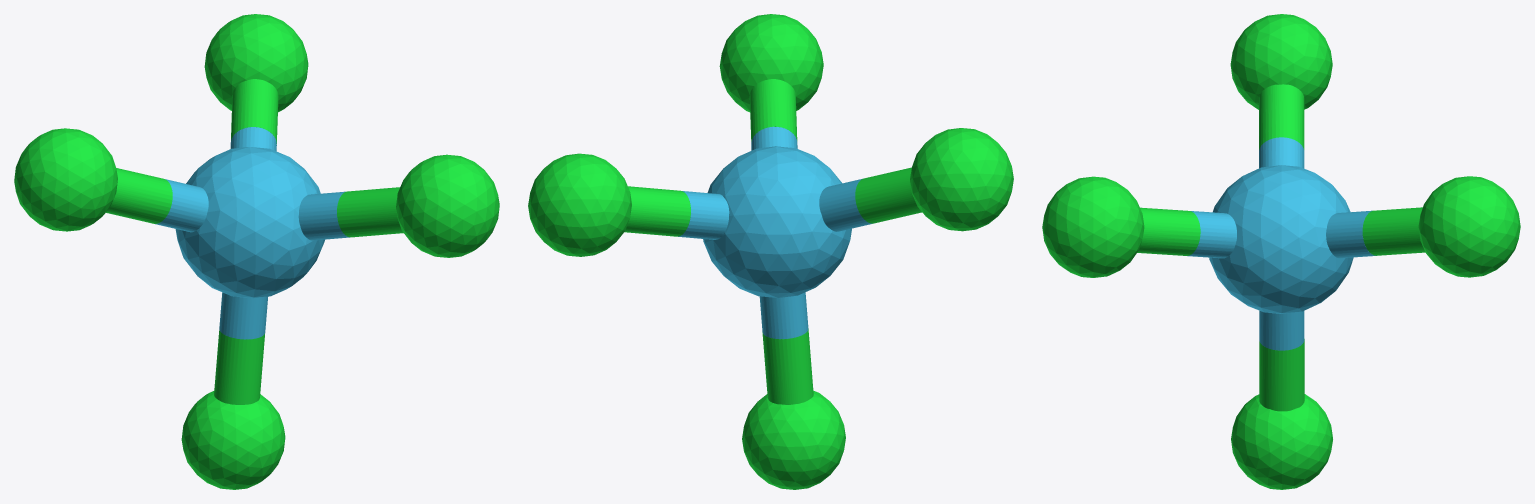
File: XeF4.gltf
3 views of the same model, side by side, from view 1: azimuth 30°, elevation 25°; view 2: azimuth 150°, elevation 25°; view 3: azimuth 270°, elevation 25° (orthographic).
Parts seen in each view (by area): view 1: Shape_IndexedFaceSet, Shape_IndexedFaceSet.001, Shape_IndexedFaceSet.004, Shape_IndexedFaceSet.002, Shape_IndexedFaceSet.003, Shape_IndexedFaceSet.012, Shape_IndexedFaceSet.005, Shape_IndexedFaceSet.016, Shape_IndexedFaceSet.009, Shape_IndexedFaceSet.014, Shape_IndexedFaceSet.007, Shape_IndexedFaceSet.015 (+1 smaller); view 2: Shape_IndexedFaceSet, Shape_IndexedFaceSet.003, Shape_IndexedFaceSet.001, Shape_IndexedFaceSet.002, Shape_IndexedFaceSet.004, Shape_IndexedFaceSet.012, Shape_IndexedFaceSet.009, Shape_IndexedFaceSet.016, Shape_IndexedFaceSet.005, Shape_IndexedFaceSet.014, Shape_IndexedFaceSet.011, Shape_IndexedFaceSet.015 (+1 smaller); view 3: Shape_IndexedFaceSet, Shape_IndexedFaceSet.004, Shape_IndexedFaceSet.003, Shape_IndexedFaceSet.002, Shape_IndexedFaceSet.001, Shape_IndexedFaceSet.012, Shape_IndexedFaceSet.009, Shape_IndexedFaceSet.005, Shape_IndexedFaceSet.016, Shape_IndexedFaceSet.007, Shape_IndexedFaceSet.011, Shape_IndexedFaceSet.014 (+1 smaller).
Part boxes in pixels (x1,y1,x2,y2): Shape_IndexedFaceSet: (175, 147, 324, 298); Shape_IndexedFaceSet.001: (14, 128, 117, 231); Shape_IndexedFaceSet.004: (396, 154, 499, 257); Shape_IndexedFaceSet.002: (181, 391, 285, 489); Shape_IndexedFaceSet.003: (204, 14, 308, 112); Shape_IndexedFaceSet.012: (214, 330, 264, 404); Shape_IndexedFaceSet.005: (337, 187, 403, 237); Shape_IndexedFaceSet.016: (106, 168, 172, 223); Shape_IndexedFaceSet.009: (231, 79, 278, 143); Shape_IndexedFaceSet.014: (219, 292, 267, 339); Shape_IndexedFaceSet.007: (298, 191, 349, 240); Shape_IndexedFaceSet.015: (155, 179, 208, 232); Shape_IndexedFaceSet: (703, 146, 851, 297); Shape_IndexedFaceSet.003: (528, 153, 631, 256); Shape_IndexedFaceSet.001: (910, 128, 1013, 231); Shape_IndexedFaceSet.002: (742, 390, 845, 489); Shape_IndexedFaceSet.004: (719, 14, 823, 112); Shape_IndexedFaceSet.012: (762, 328, 813, 404); Shape_IndexedFaceSet.009: (624, 186, 690, 236); Shape_IndexedFaceSet.016: (855, 167, 921, 223); Shape_IndexedFaceSet.005: (749, 79, 797, 141); Shape_IndexedFaceSet.014: (759, 292, 808, 339); Shape_IndexedFaceSet.011: (678, 191, 729, 239); Shape_IndexedFaceSet.015: (819, 178, 872, 231); Shape_IndexedFaceSet: (1209, 165, 1353, 313); Shape_IndexedFaceSet.004: (1042, 176, 1144, 277); Shape_IndexedFaceSet.003: (1418, 176, 1520, 277); Shape_IndexedFaceSet.002: (1231, 394, 1332, 489); Shape_IndexedFaceSet.001: (1230, 14, 1332, 109); Shape_IndexedFaceSet.012: (1259, 339, 1304, 411); Shape_IndexedFaceSet.009: (1362, 207, 1425, 255); Shape_IndexedFaceSet.005: (1137, 207, 1200, 255); Shape_IndexedFaceSet.016: (1259, 84, 1304, 149); Shape_IndexedFaceSet.007: (1187, 211, 1236, 258); Shape_IndexedFaceSet.011: (1326, 210, 1375, 258); Shape_IndexedFaceSet.014: (1259, 310, 1304, 350).
Bounding box in the file's own units: 1.13 × 1.13 × 1.27.
